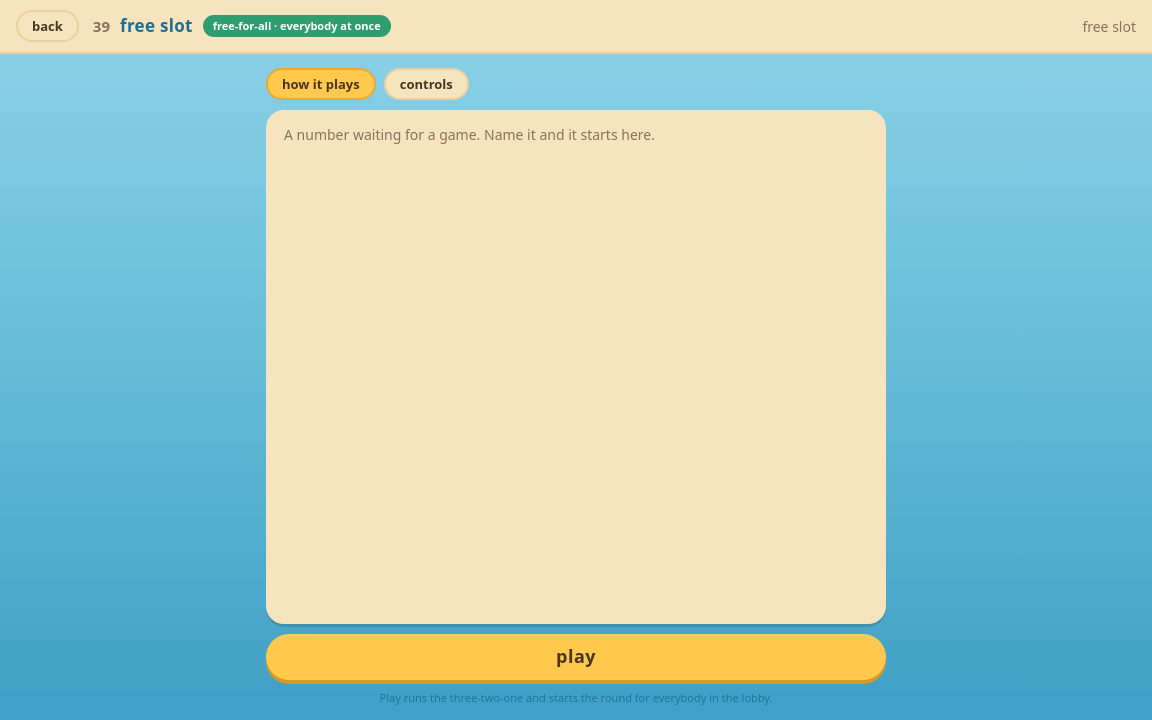
a game briefing › says so when a game has no controls written down
Click the button "controls" at (426, 84), box x1=384 y1=68 x2=469 y2=100
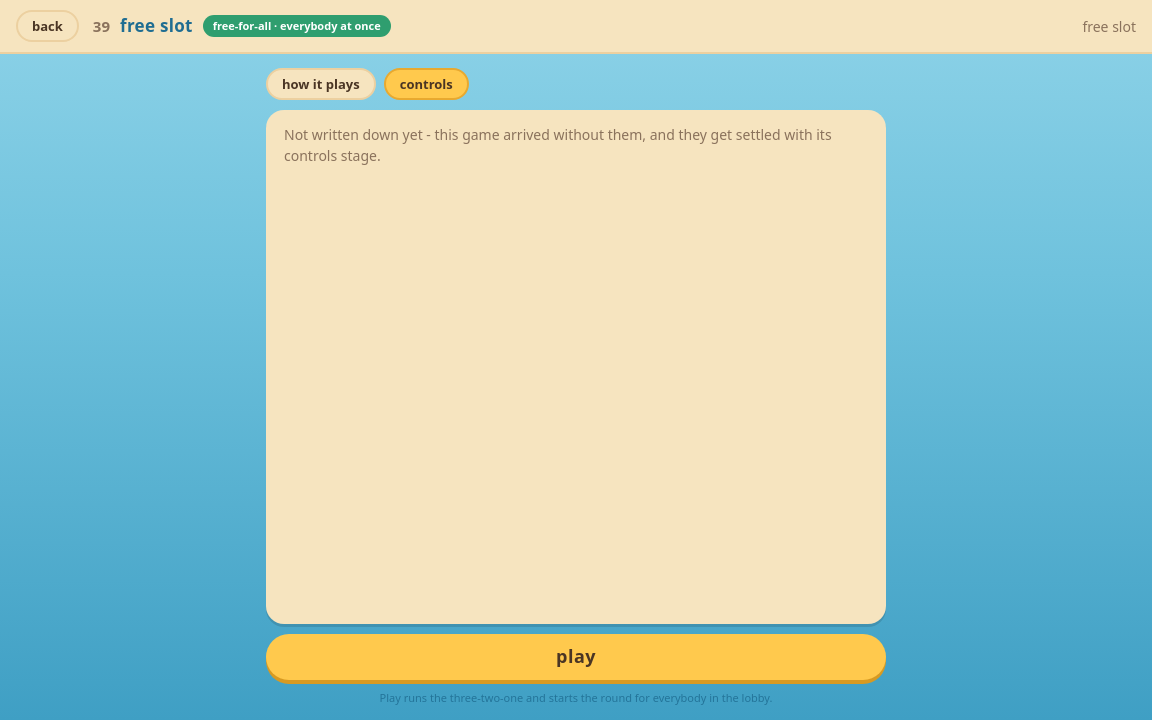
Now the text "Not written down yet" is shown, box x1=284 y1=125 x2=832 y2=165
